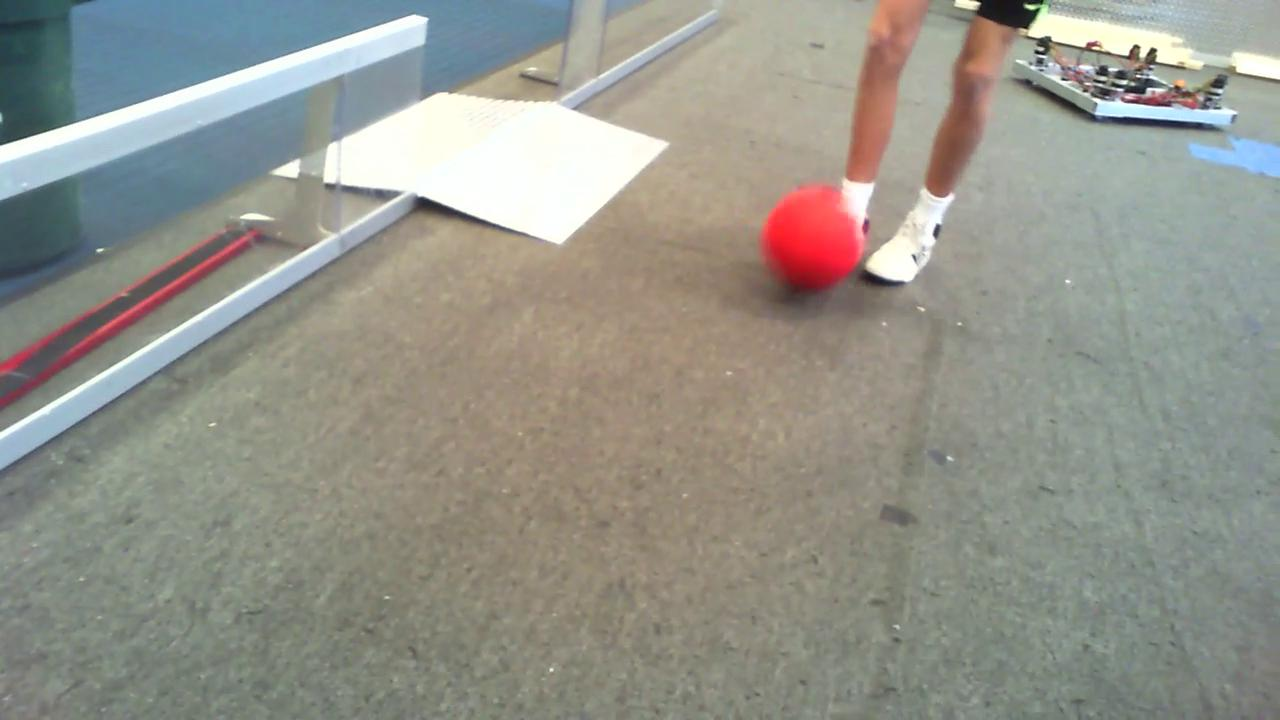Red_Ball: (746, 195, 874, 290)
